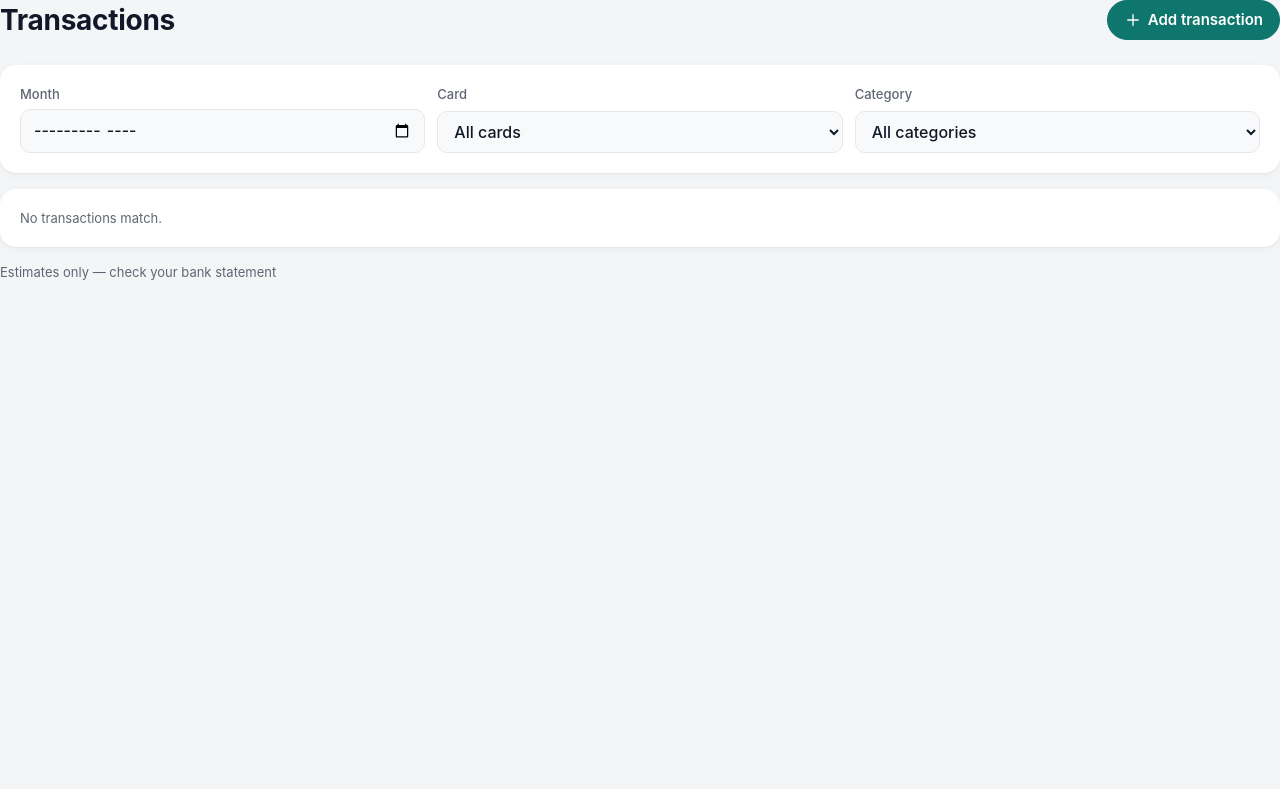
Test: TransactionsPage › cancels the add form
What coordinates should you click on to do the following:
click the button "Add transaction"
I would click on:
 (1193, 20)
Its box is [1107,0,1279,40].
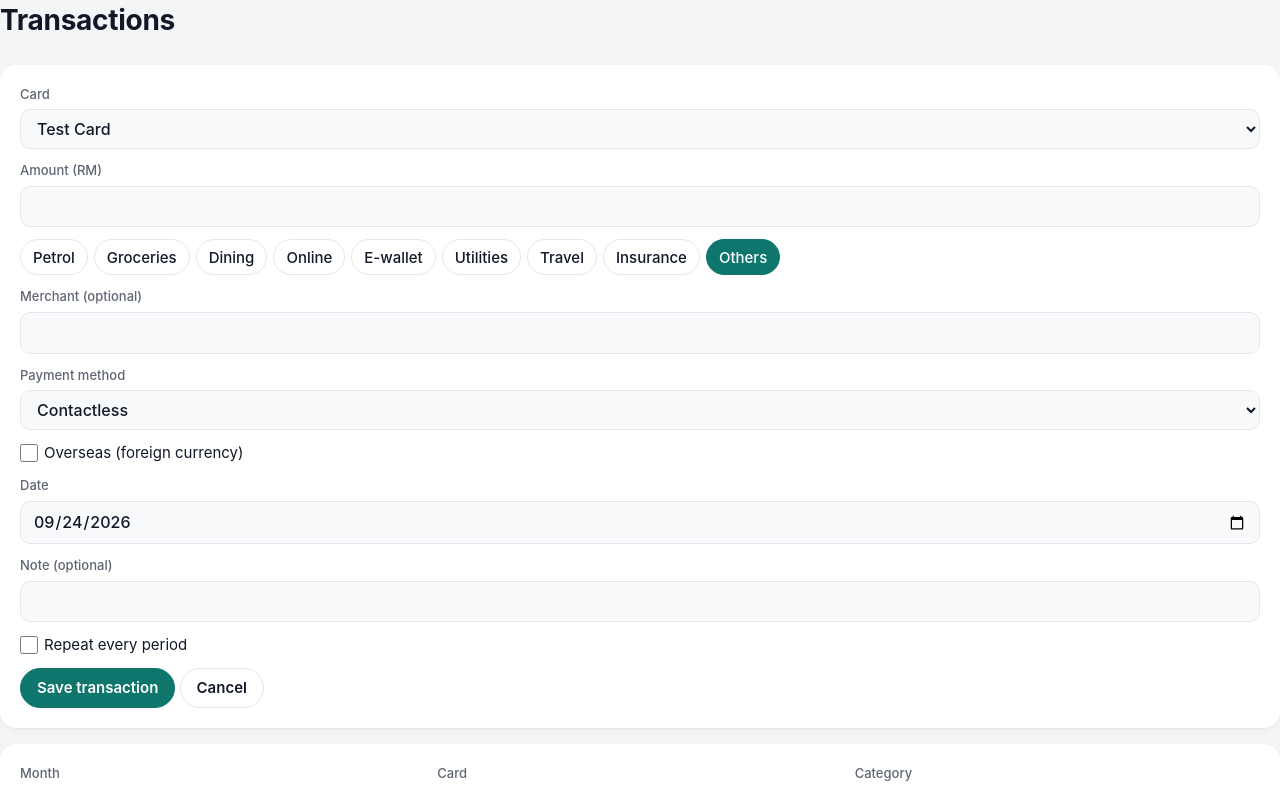
What coordinates should you click on to do the following:
click the button "Cancel"
I would click on:
 (222, 688)
Its box is [180,668,264,708].
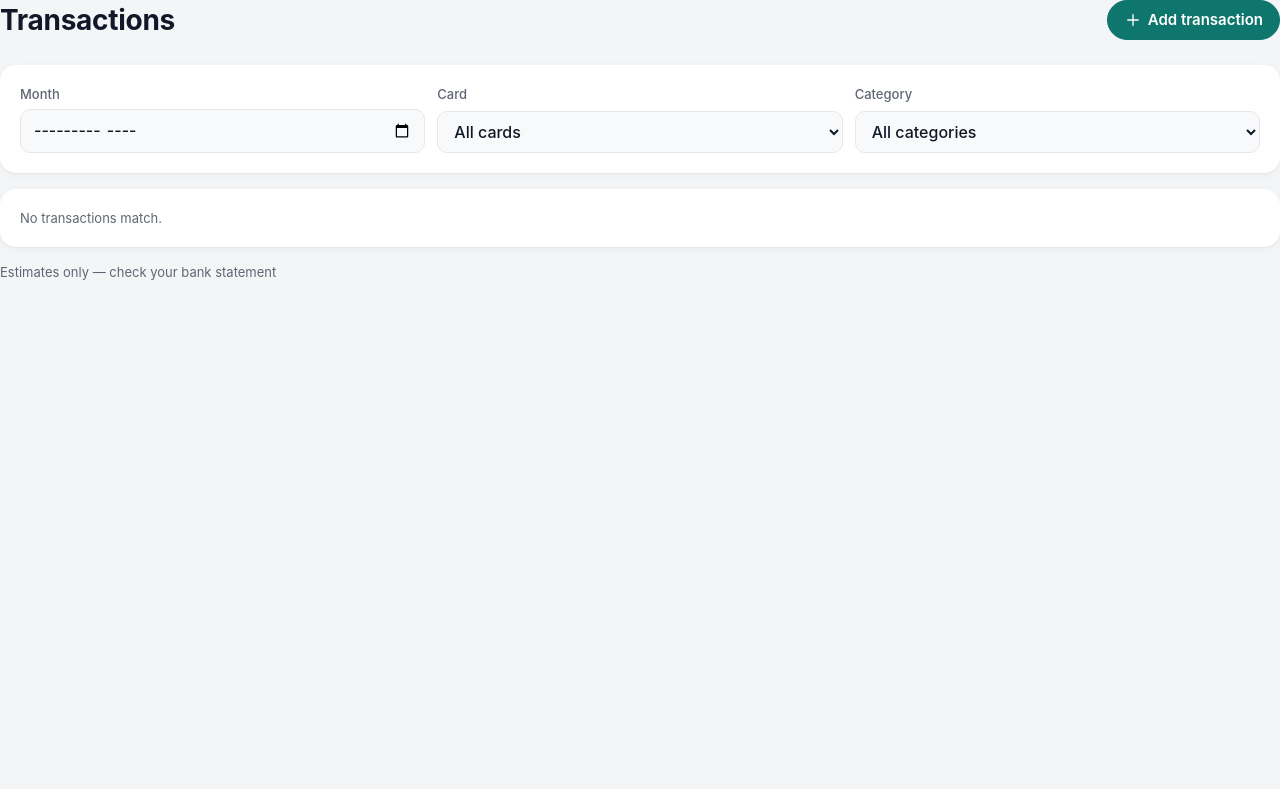
expect the label labelled "Amount (RM)" is gone: met
